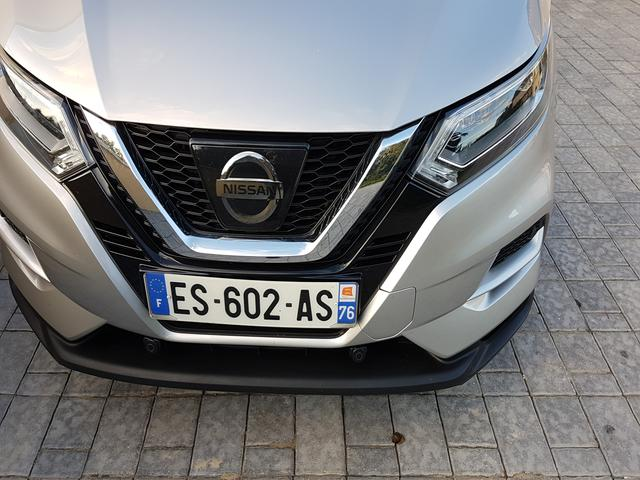Quashquai: (131, 236, 391, 355)
